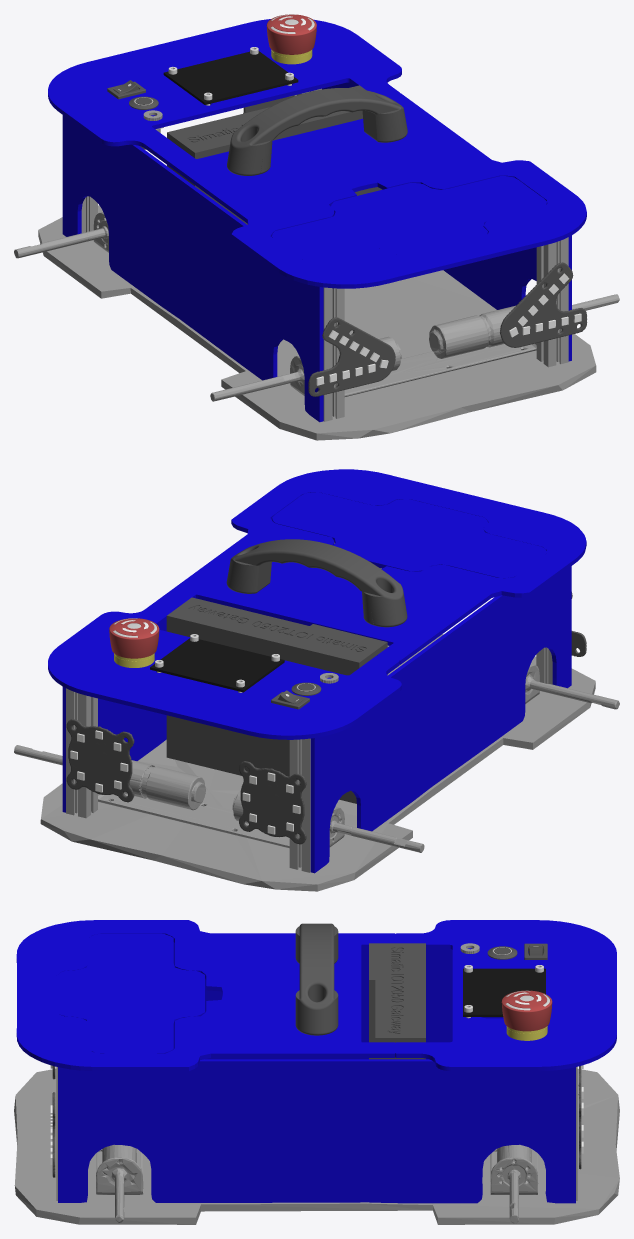
File: eduard-blue-chassis.dae
3 renders of one model, top to bottom at view 1: azimuth 30°, elevation 25°; view 2: azimuth 150°, elevation 25°; view 3: azimuth 270°, elevation 25°, orthographic.
Visible parts, largest first — view 1: Körper1.064, Körper1.004, Körper1.025, Körper1.063, Körper1.056, Körper1.005, Körper1.062, Körper1, Körper1.002, Körper1.053, Körper1.050, Körper1.084 (+4 smaller); view 2: Körper1.004, Körper1.064, Körper1.025, Körper1.063, Körper1.053, Körper1.056, Körper1.027, Körper1.062, Körper1, Körper1.087, Körper1.054, Körper1.002 (+4 smaller); view 3: Körper1.002, Körper1.064, Körper1.025, Körper1.063, Körper1.056, Körper1.053, Körper1.062, Körper1.004, Körper1, Körper1.027, Körper1.005, Körper10.
Boxes of the visible parts, x1,y1,x2,y2 form: Körper1.064: [156, 93, 586, 288]; Körper1.004: [62, 115, 323, 422]; Körper1.025: [38, 205, 596, 440]; Körper1.063: [48, 19, 401, 156]; Körper1.056: [271, 176, 546, 261]; Körper1.005: [210, 294, 619, 401]; Körper1.062: [227, 88, 407, 175]; Körper1: [163, 51, 298, 104]; Körper1.002: [322, 82, 571, 361]; Körper1.053: [167, 85, 381, 224]; Körper1.050: [500, 262, 587, 347]; Körper1.084: [308, 317, 395, 396]; Körper1.004: [310, 566, 571, 873]; Körper1.064: [156, 469, 586, 664]; Körper1.025: [40, 634, 595, 891]; Körper1.063: [48, 601, 401, 739]; Körper1.053: [166, 597, 387, 803]; Körper1.056: [272, 492, 546, 578]; Körper1.027: [14, 745, 424, 852]; Körper1.062: [226, 539, 407, 627]; Körper1: [150, 638, 284, 692]; Körper1.087: [66, 719, 134, 802]; Körper1.054: [239, 761, 306, 844]; Körper1.002: [62, 620, 166, 812]; Körper1.002: [58, 1059, 575, 1203]; Körper1.064: [16, 920, 394, 1071]; Körper1.025: [14, 1068, 619, 1224]; Körper1.063: [395, 920, 616, 1071]; Körper1.056: [56, 933, 204, 1053]; Körper1.053: [369, 943, 425, 1059]; Körper1.062: [295, 923, 338, 1035]; Körper1.004: [173, 942, 503, 1059]; Körper1: [463, 968, 545, 1016]; Körper1.027: [490, 1144, 538, 1223]; Körper1.005: [96, 1144, 143, 1222]; Körper10: [501, 990, 552, 1031].
Bounding box in the file's own units: 0.2996 × 0.3837 × 0.1461.
